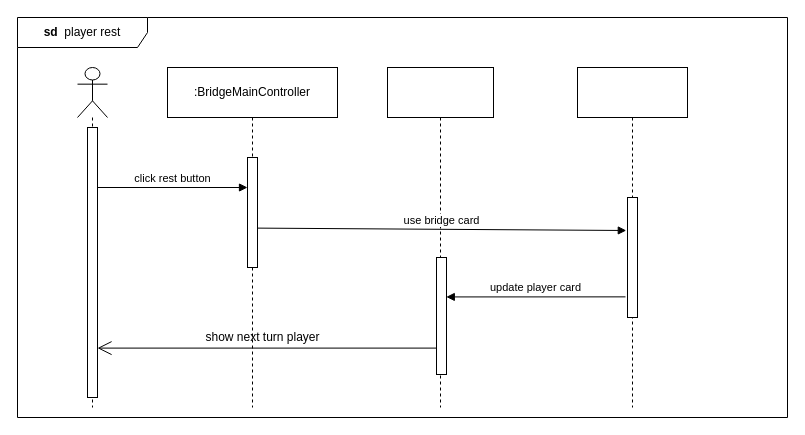
This 805x435 diagram has some shape labels left out. Here are the shapes that lost their labels. From the top down, the centre of each, then its label:
At (x=440, y=237): ":BridgeMapView".
At (x=632, y=237): ": PlayerView".
